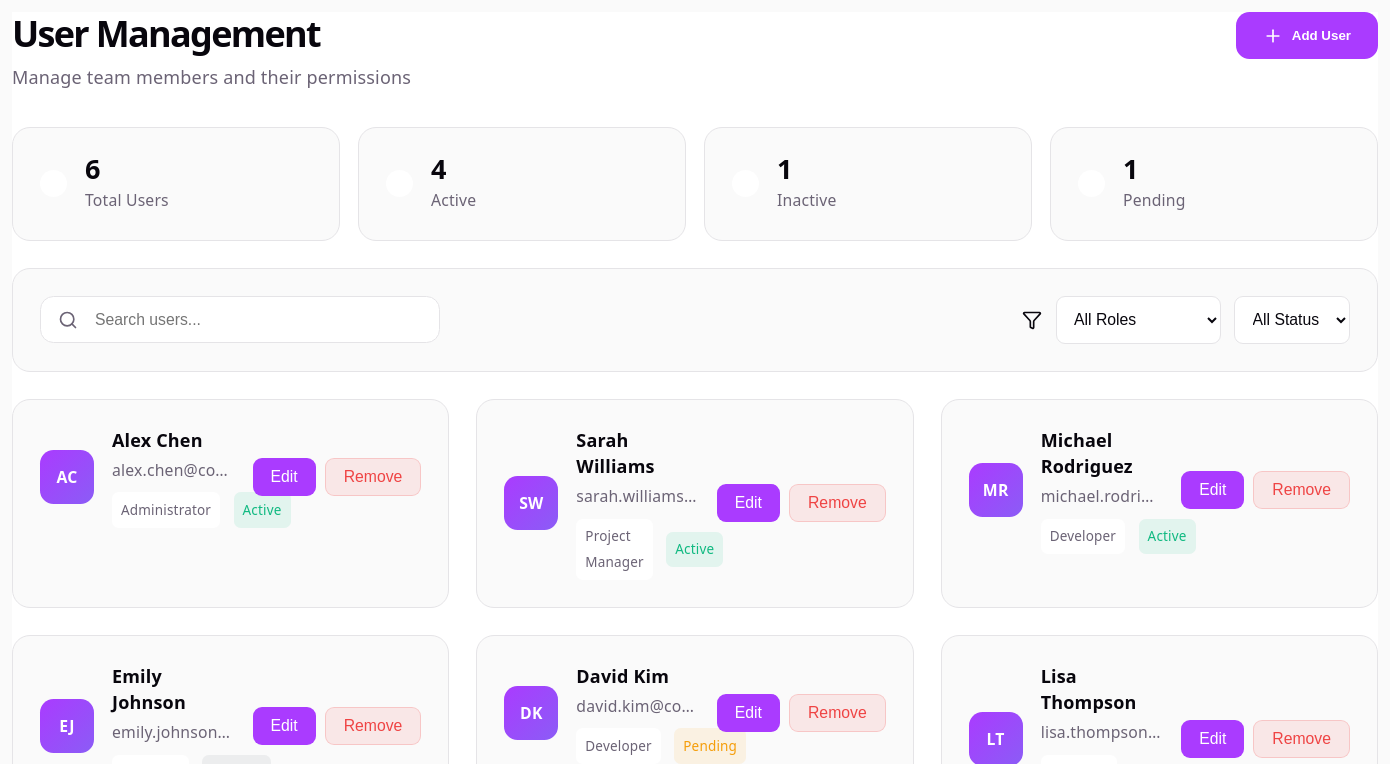
it: UserManagement › Filter functionality (P0) › resets to all users when filters set to "all"
Apply filters
Select "Developer" in the 1st dropdown at {"x": 1138, "y": 320}, box [1056, 296, 1220, 344]
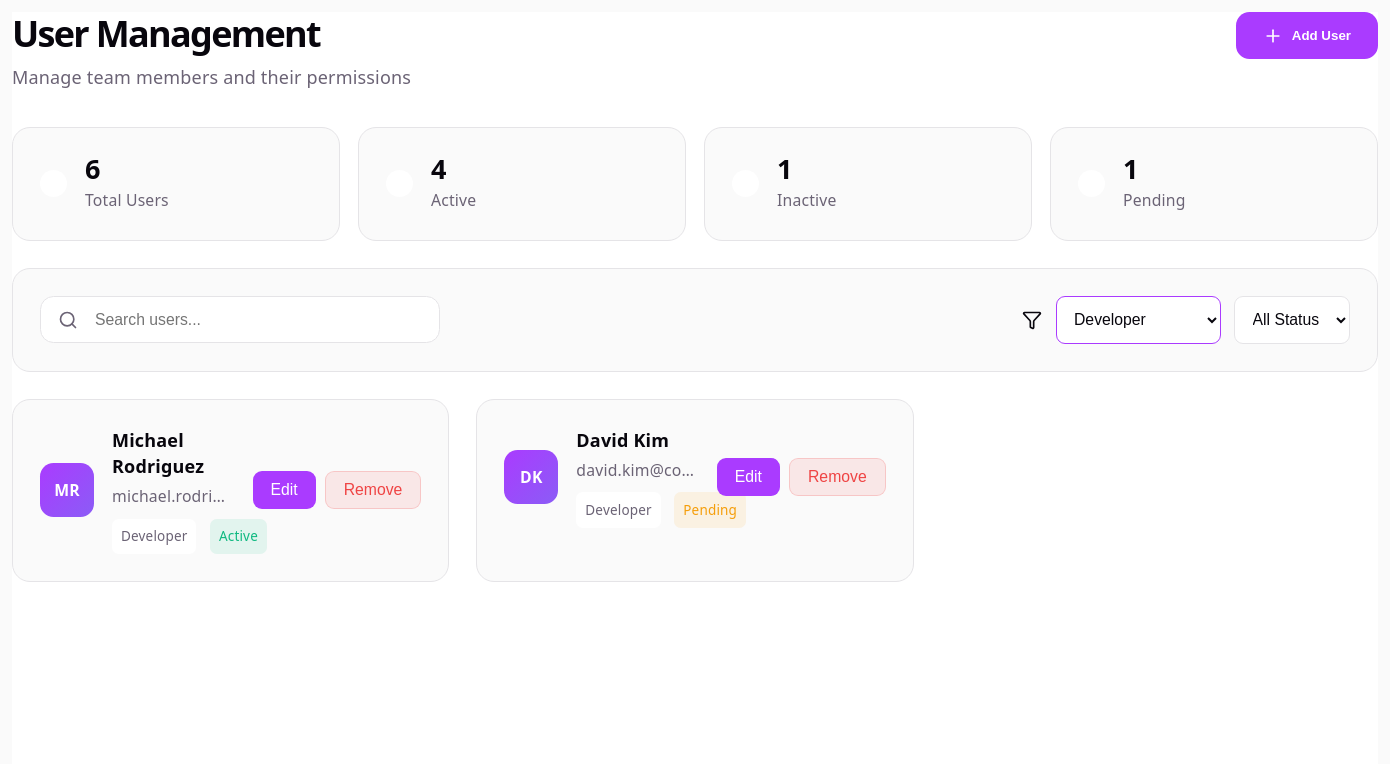
Select "Active" in the 2nd dropdown at {"x": 1292, "y": 320}, box [1234, 296, 1350, 344]
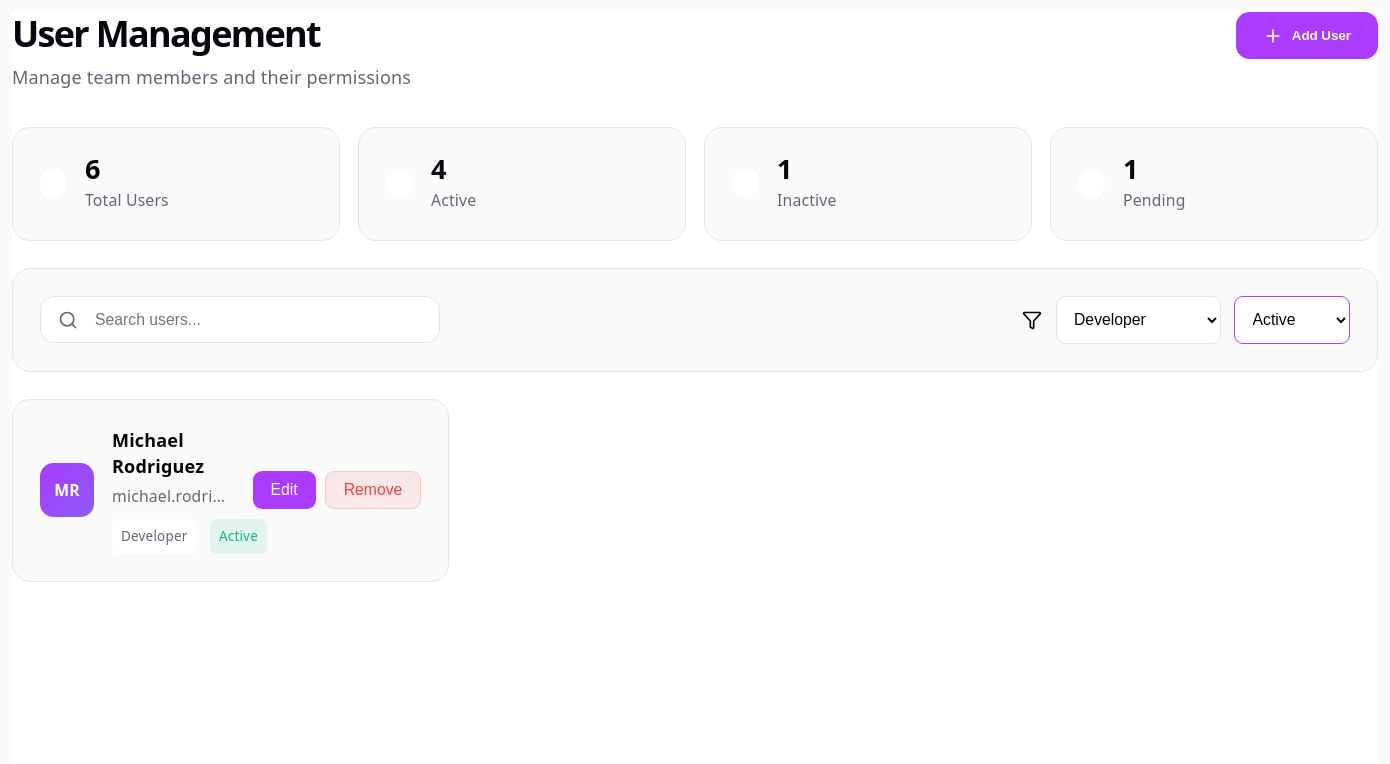
Reset filters
Select "All Roles" in the 1st dropdown at {"x": 1138, "y": 320}, box [1056, 296, 1220, 344]
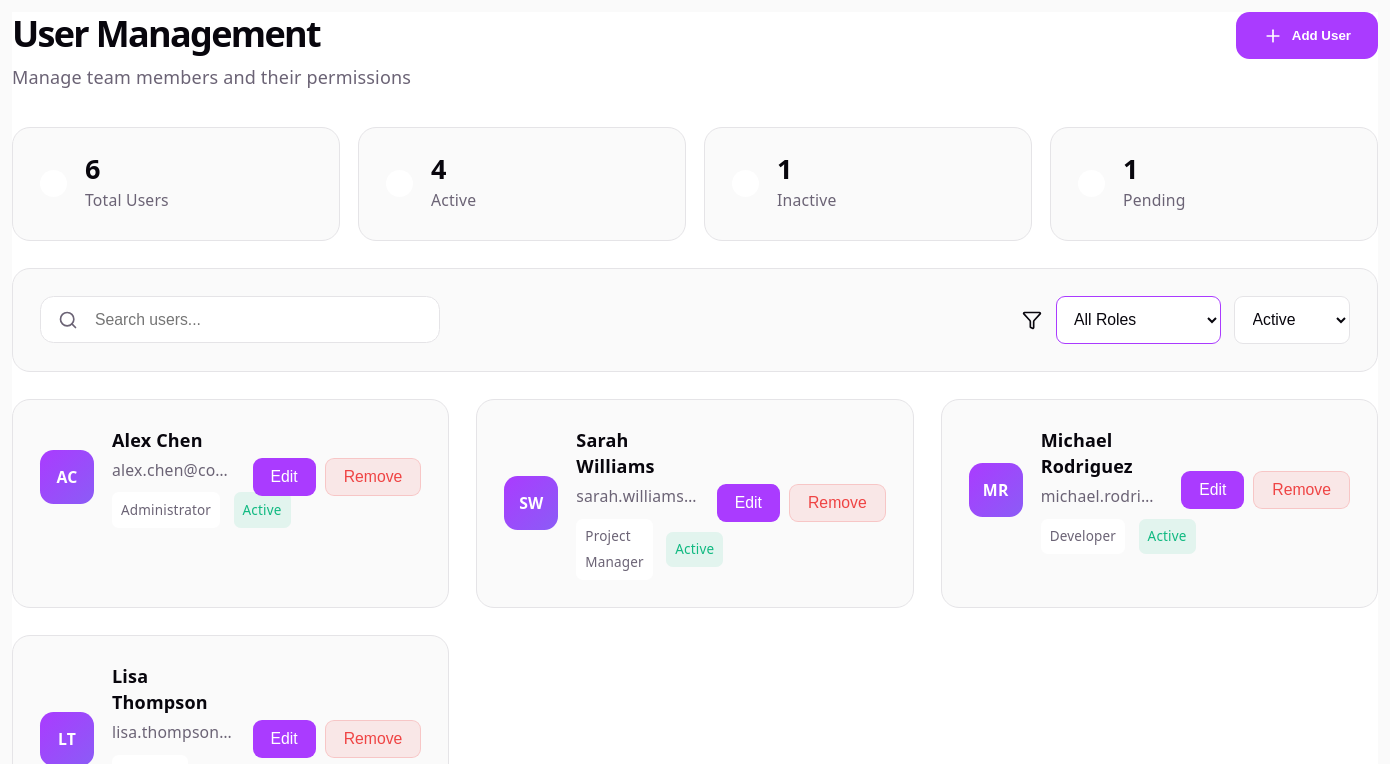
Select "All Status" in the 2nd dropdown at {"x": 1292, "y": 320}, box [1234, 296, 1350, 344]
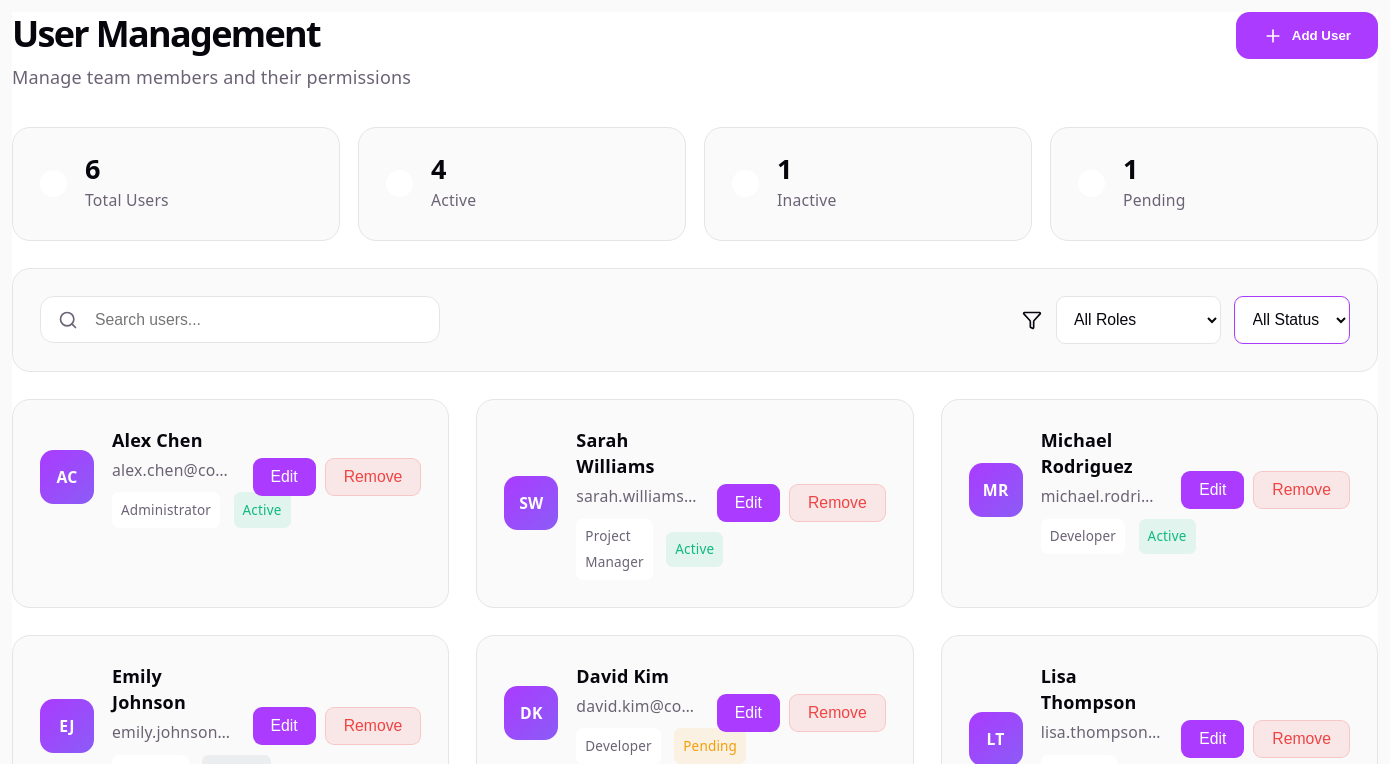
Result: the heading "Alex Chen" is shown at [112, 428, 203, 452]
Result: the heading "Sarah Williams" is shown at [576, 428, 655, 478]
Result: the heading "Emily Johnson" is shown at [112, 664, 186, 714]
